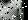person: (1, 1, 25, 20)
